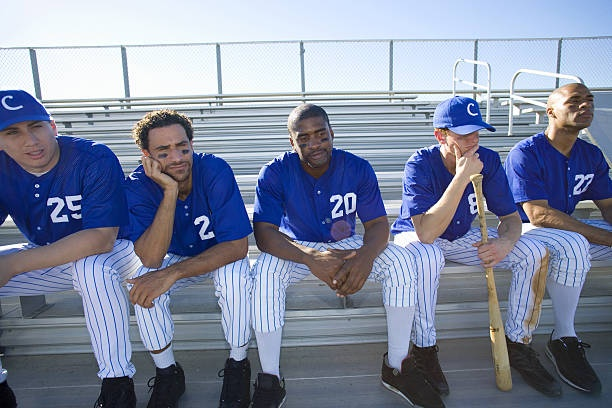bita: (471, 175, 522, 388)
